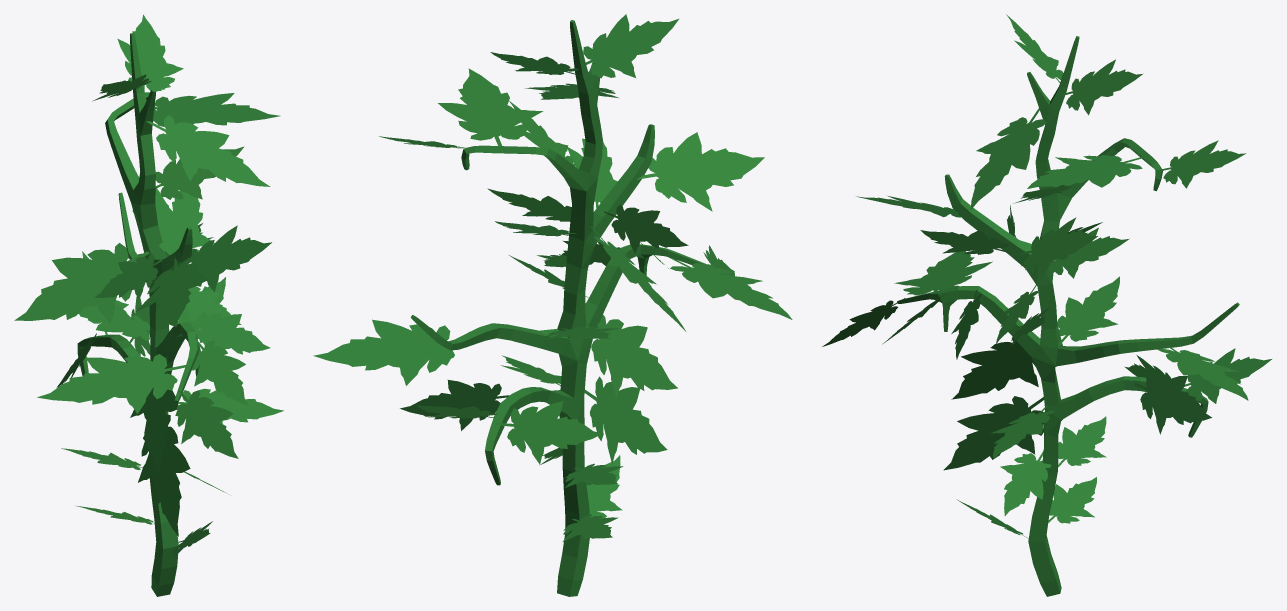
The model's file is testcrop1.gltf.
3 renders of one model, left to right at view 1: azimuth 30°, elevation 25°; view 2: azimuth 150°, elevation 25°; view 3: azimuth 270°, elevation 25°, orthographic. The views are drawn at different scales.
Parts seen in each view (by area): view 1: testcrop; view 2: testcrop; view 3: testcrop.
Part boxes in pixels (x1,y1,x2,y2): testcrop: (14, 14, 283, 596); testcrop: (313, 14, 792, 596); testcrop: (822, 14, 1271, 596).
Bounding box in the file's own units: 1.48 × 2.53 × 1.88.
